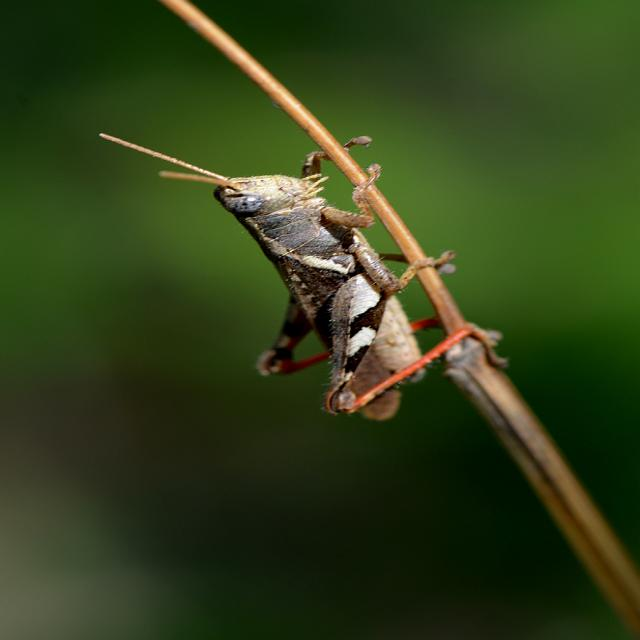ZhaMeng: (90, 115, 502, 436)
